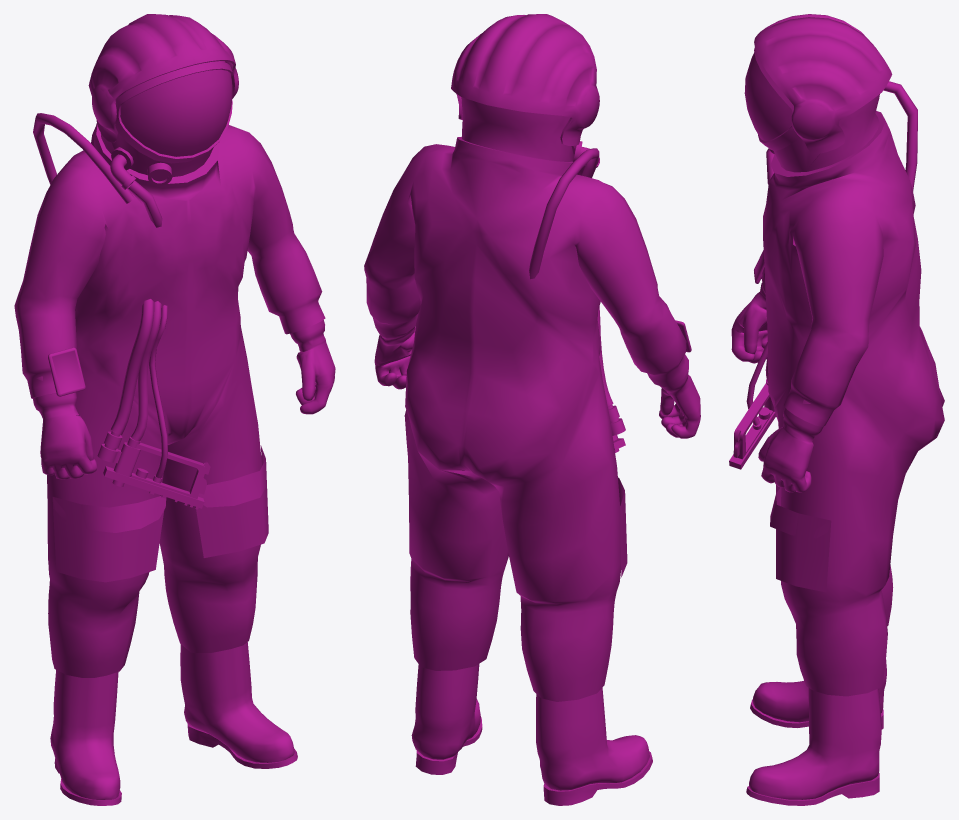
File: astronart.obj
The picture shows the model from 3 angles, left to right: view 1: azimuth 30°, elevation 25°; view 2: azimuth 150°, elevation 25°; view 3: azimuth 270°, elevation 25°; orthographic projection.
Parts seen in each view (by area): view 1: skpVsGBRJ_001; view 2: skpVsGBRJ_001; view 3: skpVsGBRJ_001.
Part boxes in pixels (x1,y1,x2,y2): skpVsGBRJ_001: [14, 14, 335, 805]; skpVsGBRJ_001: [364, 14, 700, 805]; skpVsGBRJ_001: [729, 14, 944, 805].
Bounding box in the file's own units: 834 × 1936 × 512.
